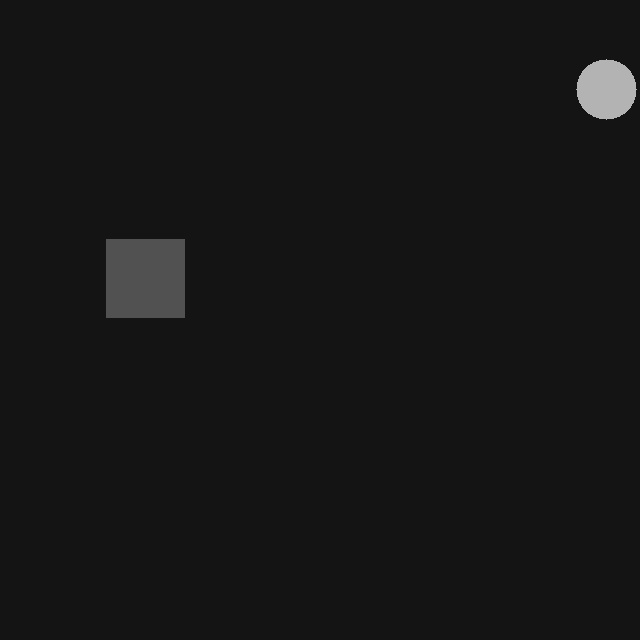circle: (576, 59, 636, 119)
square: (106, 239, 184, 317)
